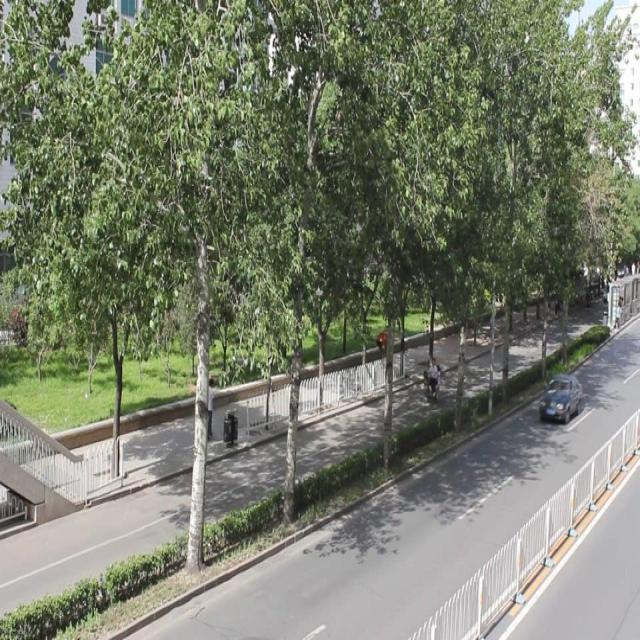car: (538, 374, 582, 420)
